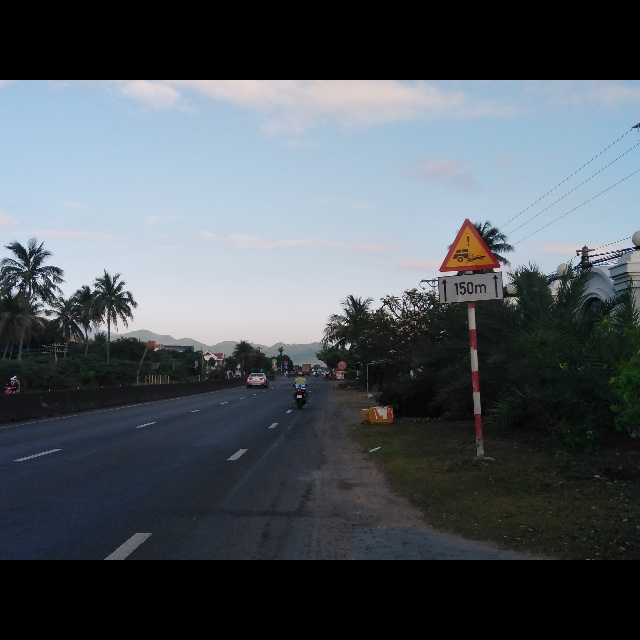Đoạn đường hay xảy ra tai nạn: (439, 216, 499, 273)
